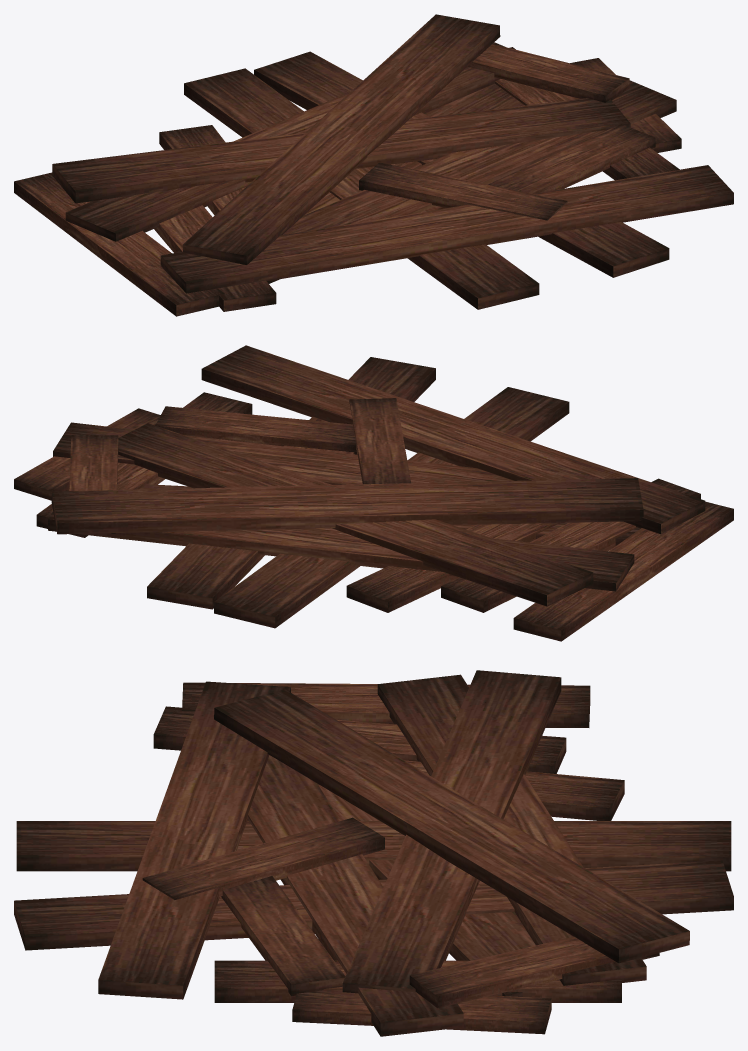
Rendered from WoodPlank.fbx.
The picture shows the model from 3 angles, top to bottom: view 1: azimuth 30°, elevation 25°; view 2: azimuth 150°, elevation 25°; view 3: azimuth 270°, elevation 25°; orthographic projection. The views are drawn at different scales.
Parts seen in each view (by area): view 1: WoodPlank_A_7; view 2: WoodPlank_A_7; view 3: WoodPlank_A_7.
Part boxes in pixels (left/top/right/bottom): WoodPlank_A_7: left=14, top=14, right=733, bottom=316; WoodPlank_A_7: left=14, top=345, right=733, bottom=641; WoodPlank_A_7: left=14, top=670, right=733, bottom=1036.
Size of the model in its own units: 4.93 by 0.3218 by 4.35.
